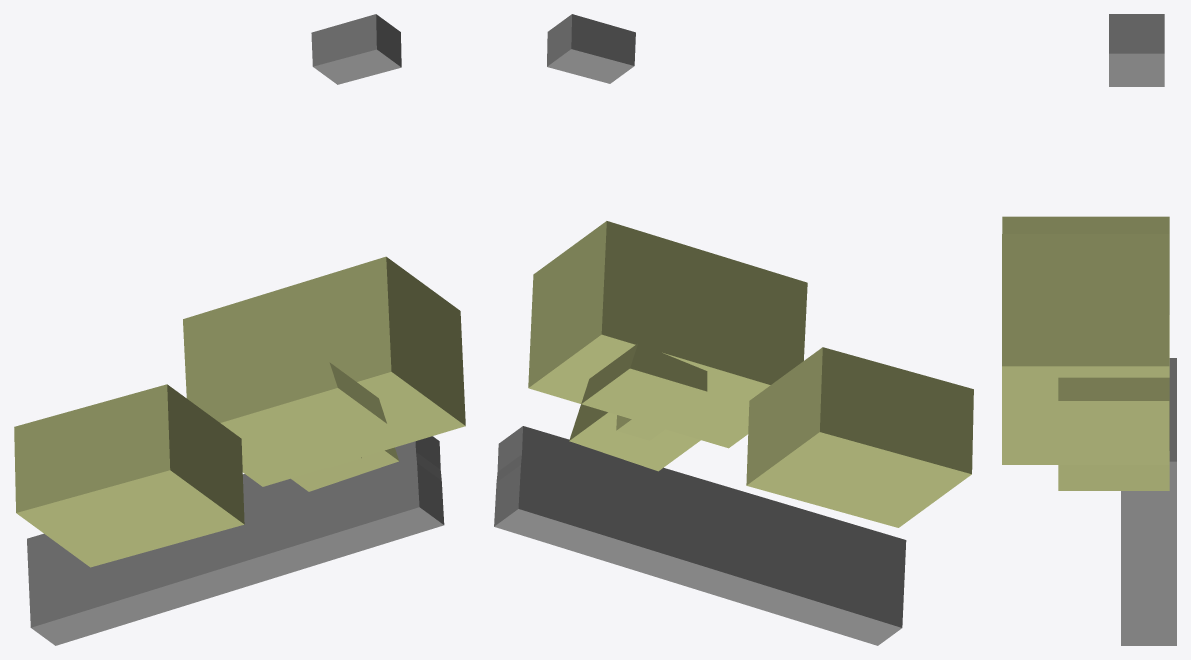
The picture shows the model from 3 angles, left to right: view 1: azimuth 30°, elevation 25°; view 2: azimuth 150°, elevation 25°; view 3: azimuth 270°, elevation 25°; orthographic projection. The views are drawn at different scales.
Visible parts, largest first — view 1: 0_2_3_3_3_1_3_0_3; view 2: 0_2_3_3_3_1_3_0_3; view 3: 0_2_3_3_3_1_3_0_3.
Part boxes in pixels (x1,y1,x2,y2): 0_2_3_3_3_1_3_0_3: (14,14,465,645); 0_2_3_3_3_1_3_0_3: (494,14,973,645); 0_2_3_3_3_1_3_0_3: (1002,14,1176,645).
Size of the model in its own units: 28.55 by 35.72 by 9.4.
